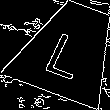L_NE: (42, 21, 96, 79)
